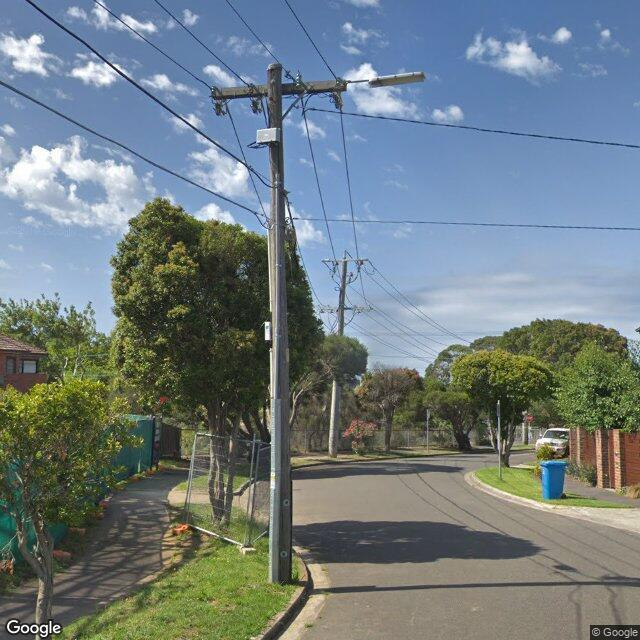HV-transmission: (320, 249, 370, 262), (332, 260, 363, 278)
crossarm: (211, 79, 347, 99), (332, 306, 352, 310)
streetlight: (347, 72, 425, 88)
timber-pole: (268, 63, 292, 586), (329, 258, 347, 458)
